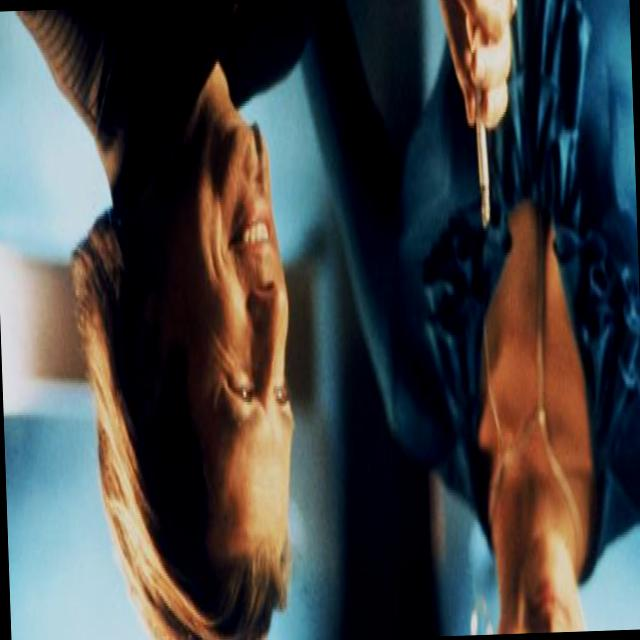cigarette: (442, 31, 509, 264)
